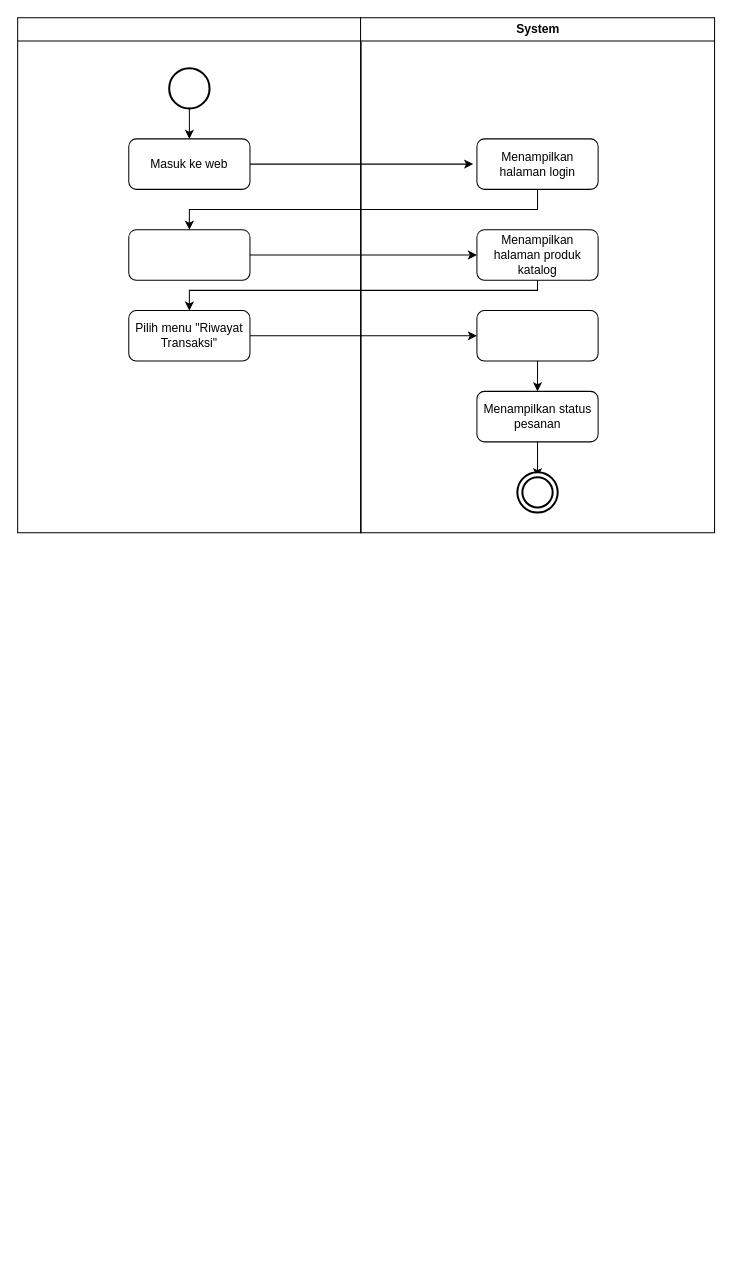
Some shapes in this 732 by 1278 pixel diagram are drawn without their labels. The shapes that lost their labels are listed below. From the top down, each one's box as (x1, y1, x2, y2) in pixels, then its label:
(128, 229, 250, 280): Login
(17, 17, 361, 533): Pembeli
(476, 310, 598, 361): Menampilkan Riwayat Transaksi
